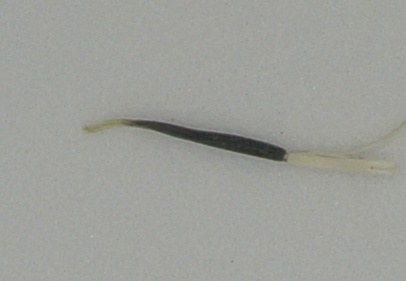เมล็ดดีเรียวยาว: (80, 109, 406, 177)
